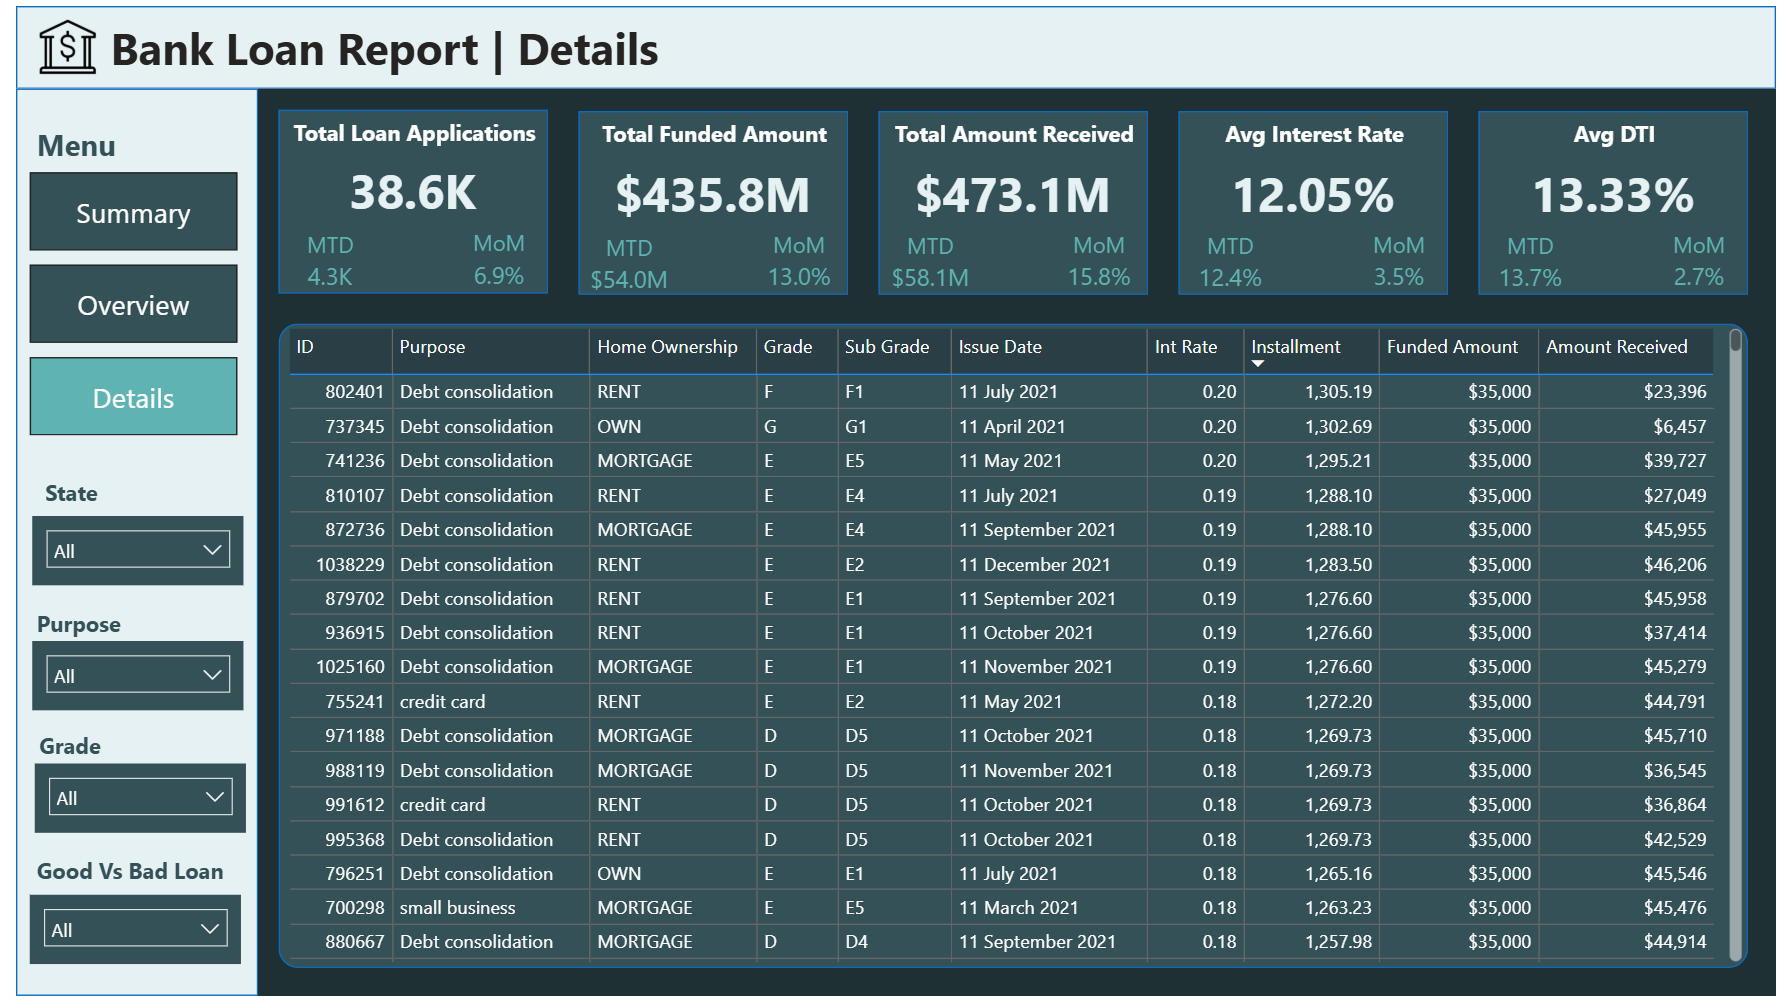

Layout of this report page (visuals, bound fields, positions):
{"tool":"powerbi","page":{"name":"Details","canvas":[1280,720],"ordinal":2},"visuals":[{"type":"shape","box":[0,60.3,176.1,659.9],"z":0},{"type":"shape","box":[0,0,1280,60.3],"z":1000},{"type":"textbox","box":[63.9,3.6,469.3,53.1],"z":2000},{"type":"image","box":[9.7,4.8,55.5,50.7],"z":3000},{"type":"shape","box":[191.4,75.8,196.2,133.8],"z":3000,"group":"g1"},{"type":"shape","box":[408.8,76,196.2,133.8],"z":3000,"group":"g8"},{"type":"shape","box":[627.3,76,196.2,133.8],"z":3000,"group":"g2"},{"type":"shape","box":[845.7,76,196.2,133.8],"z":3000,"group":"g3"},{"type":"shape","box":[1064.2,76,196.2,133.8],"z":3000,"group":"g4"},{"type":"shape","box":[191.2,231.2,1068.8,468.8],"z":4000},{"type":"group","id":"g1","title":"Group 1","box":[191.2,75.8,197,134.2],"z":5000},{"type":"card","title":"Total Loan Applications","fields":{"Values":["bank_loan_data.Total Loan Applications"]},"box":[191.2,110.8,195,47.5],"z":5000,"group":"g1"},{"type":"card","title":"Total Loan Applications","fields":{"Values":["bank_loan_data.Total Funded Amount"]},"box":[408.6,112.4,195.5,47.3],"z":5000,"group":"g8"},{"type":"card","title":"Total Loan Applications","fields":{"Values":["bank_loan_data.Total Amount Received"]},"box":[627.1,112.4,195.5,47.3],"z":5000,"group":"g2"},{"type":"card","title":"Total Loan Applications","fields":{"Values":["bank_loan_data.Avg INterest Rate"]},"box":[845.5,112.4,195.5,47.3],"z":5000,"group":"g3"},{"type":"card","title":"Total Loan Applications","fields":{"Values":["bank_loan_data.Avg DTI"]},"box":[1064,112.4,195.5,47.3],"z":5000,"group":"g4"},{"type":"textbox","box":[192.1,76.1,196.2,34.6],"z":6000,"group":"g1"},{"type":"textbox","box":[409.5,76.3,196.2,34.6],"z":6000,"group":"g8"},{"type":"textbox","box":[628,76.3,196.2,34.6],"z":6000,"group":"g2"},{"type":"textbox","box":[846.4,76.3,196.2,34.6],"z":6000,"group":"g3"},{"type":"textbox","box":[1064.9,76.3,196.2,34.6],"z":6000,"group":"g4"},{"type":"group","id":"g2","title":"Group 1","box":[627.1,76,197,134.2],"z":7000},{"type":"card","title":"MTD","fields":{"Values":["bank_loan_data.MTD Loan Applications"]},"box":[192.4,161.8,73.6,48.2],"z":7000,"group":"g1"},{"type":"card","title":"MTD","fields":{"Values":["bank_loan_data.MTD Total Amount Recived"]},"box":[628.3,162,73.6,48.2],"z":7000,"group":"g2"},{"type":"card","title":"MTD","fields":{"Values":["bank_loan_data.MTD Avg Interest Rate"]},"box":[846.7,162,73.6,48.2],"z":7000,"group":"g3"},{"type":"card","title":"MTD","fields":{"Values":["bank_loan_data.MTD Avg DTI"]},"box":[1065.2,162,73.6,48.2],"z":7000,"group":"g4"},{"type":"textbox","box":[12.1,337.6,153.8,32.5],"z":7000,"group":"g9"},{"type":"textbox","box":[10.3,432.4,153.8,32.5],"z":7000,"group":"g7"},{"type":"textbox","box":[12.2,522.2,153.8,32.5],"z":7000,"group":"g10"},{"type":"textbox","box":[10,612.5,153.8,32.5],"z":7000,"group":"g5"},{"type":"group","id":"g3","title":"Group 1","box":[845.5,76,197,134.2],"z":8000},{"type":"card","title":"MoM","fields":{"Values":["bank_loan_data.MoM Loan Applications"]},"box":[316,160.9,71.8,48.2],"z":8001,"group":"g1"},{"type":"card","title":"MoM","fields":{"Values":["bank_loan_data.MoM Total Funded Amount"]},"box":[533.4,161.1,71.8,48.2],"z":8001,"group":"g8"},{"type":"card","title":"MoM","fields":{"Values":["bank_loan_data.MoM Total Amount Received"]},"box":[751.9,161.1,71.8,48.2],"z":8001,"group":"g2"},{"type":"card","title":"MoM","fields":{"Values":["bank_loan_data.MoM Avg Interest Rate"]},"box":[970.3,161.1,71.8,48.2],"z":8001,"group":"g3"},{"type":"card","title":"MoM","fields":{"Values":["bank_loan_data.MoM Avg DTI"]},"box":[1188.8,161.1,71.8,48.2],"z":8001,"group":"g4"},{"type":"group","id":"g4","title":"Group 1","box":[1064,76,197,134.2],"z":9000},{"type":"card","title":"MTD","fields":{"Values":["bank_loan_data.MTD Funded Amount"]},"box":[408.7,163.8,73.8,47.5],"z":10000,"group":"g8"},{"type":"group","id":"g5","title":"Group 4","box":[10,612.5,153.8,83.8],"z":11000},{"type":"group","id":"g6","title":"Group 4","box":[12.2,522.2,155,80],"z":12000},{"type":"group","id":"g7","title":"Group 2","box":[10.3,432.4,155.3,79.5],"z":13000},{"type":"tableEx","fields":{"Values":["bank_loan_data.id","bank_loan_data.purpose","bank_loan_data.home_ownership","bank_loan_data.grade","bank_loan_data.sub_grade","bank_loan_data.issue_date","Sum(bank_loan_data.int_rate)","Sum(bank_loan_data.installment)","bank_loan_data.Total Funded Amount","bank_loan_data.Total Amount Received"]},"box":[192.5,230,1067.5,470],"z":14000},{"type":"pageNavigator","title":"Menu","box":[10,121.1,151.1,191.1],"z":15001},{"type":"textbox","box":[10,80.8,150.8,40],"z":15002},{"type":"group","id":"g8","title":"Group 6","box":[408.6,76,197,135.2],"z":15003},{"type":"group","id":"g9","title":"Group 4","box":[12.1,337.6,153.8,83.8],"z":15004},{"type":"slicer","fields":{"Values":["bank_loan_data.address_state"]},"box":[12.1,371.4,153.8,50],"z":16000,"group":"g9"},{"type":"slicer","fields":{"Values":["bank_loan_data.purpose"]},"box":[11.9,461.9,153.8,50],"z":16000,"group":"g7"},{"type":"slicer","fields":{"Values":["bank_loan_data.grade"]},"box":[13.8,551.7,153.8,50],"z":16000,"group":"g10"},{"type":"slicer","fields":{"Values":["bank_loan_data.Good Vs Bad Loan"]},"box":[10,646.3,153.8,50],"z":16000,"group":"g5"},{"type":"group","id":"g10","title":"Group 5","box":[12.2,522.2,155,80],"z":16001,"group":"g6"}]}

Visuals, with their boxes in screenshot pixels (x1, y1, x2, y2), scaled from the page's 1280x720 canvas onto the 1791x1006 screenshot:
shape: left=0, top=84, right=246, bottom=1005
shape: left=0, top=0, right=1790, bottom=84
textbox: left=89, top=5, right=746, bottom=79
image: left=14, top=7, right=91, bottom=78
shape: left=268, top=106, right=542, bottom=293
shape: left=572, top=106, right=847, bottom=293
shape: left=878, top=106, right=1152, bottom=293
shape: left=1183, top=106, right=1458, bottom=293
shape: left=1489, top=106, right=1764, bottom=293
shape: left=268, top=323, right=1763, bottom=978
"Group 1" group: left=268, top=106, right=543, bottom=293
"Total Loan Applications" card: left=268, top=155, right=540, bottom=221
"Total Loan Applications" card: left=572, top=157, right=845, bottom=223
"Total Loan Applications" card: left=877, top=157, right=1151, bottom=223
"Total Loan Applications" card: left=1183, top=157, right=1457, bottom=223
"Total Loan Applications" card: left=1489, top=157, right=1762, bottom=223
textbox: left=269, top=106, right=543, bottom=155
textbox: left=573, top=107, right=848, bottom=155
textbox: left=879, top=107, right=1153, bottom=155
textbox: left=1184, top=107, right=1459, bottom=155
textbox: left=1490, top=107, right=1765, bottom=155
"Group 1" group: left=877, top=106, right=1153, bottom=294
"MTD" card: left=269, top=226, right=372, bottom=293
"MTD" card: left=879, top=226, right=982, bottom=294
"MTD" card: left=1185, top=226, right=1288, bottom=294
"MTD" card: left=1490, top=226, right=1593, bottom=294
textbox: left=17, top=472, right=232, bottom=517
textbox: left=14, top=604, right=230, bottom=650
textbox: left=17, top=730, right=232, bottom=775
textbox: left=14, top=856, right=229, bottom=901
"Group 1" group: left=1183, top=106, right=1459, bottom=294
"MoM" card: left=442, top=225, right=543, bottom=292
"MoM" card: left=746, top=225, right=847, bottom=292
"MoM" card: left=1052, top=225, right=1153, bottom=292
"MoM" card: left=1358, top=225, right=1458, bottom=292
"MoM" card: left=1663, top=225, right=1764, bottom=292
"Group 1" group: left=1489, top=106, right=1764, bottom=294
"MTD" card: left=572, top=229, right=675, bottom=295
"Group 4" group: left=14, top=856, right=229, bottom=973
"Group 4" group: left=17, top=730, right=234, bottom=841
"Group 2" group: left=14, top=604, right=232, bottom=715
tableEx - bank_loan_data.id x bank_loan_data.purpose: left=269, top=321, right=1763, bottom=978
"Menu" pageNavigator: left=14, top=169, right=225, bottom=436
textbox: left=14, top=113, right=225, bottom=169
"Group 6" group: left=572, top=106, right=847, bottom=295
"Group 4" group: left=17, top=472, right=232, bottom=589
slicer - bank_loan_data.address_state: left=17, top=519, right=232, bottom=589
slicer - bank_loan_data.purpose: left=17, top=645, right=232, bottom=715
slicer - bank_loan_data.grade: left=19, top=771, right=235, bottom=841
slicer - bank_loan_data.Good Vs Bad Loan: left=14, top=903, right=229, bottom=973
"Group 5" group: left=17, top=730, right=234, bottom=841
